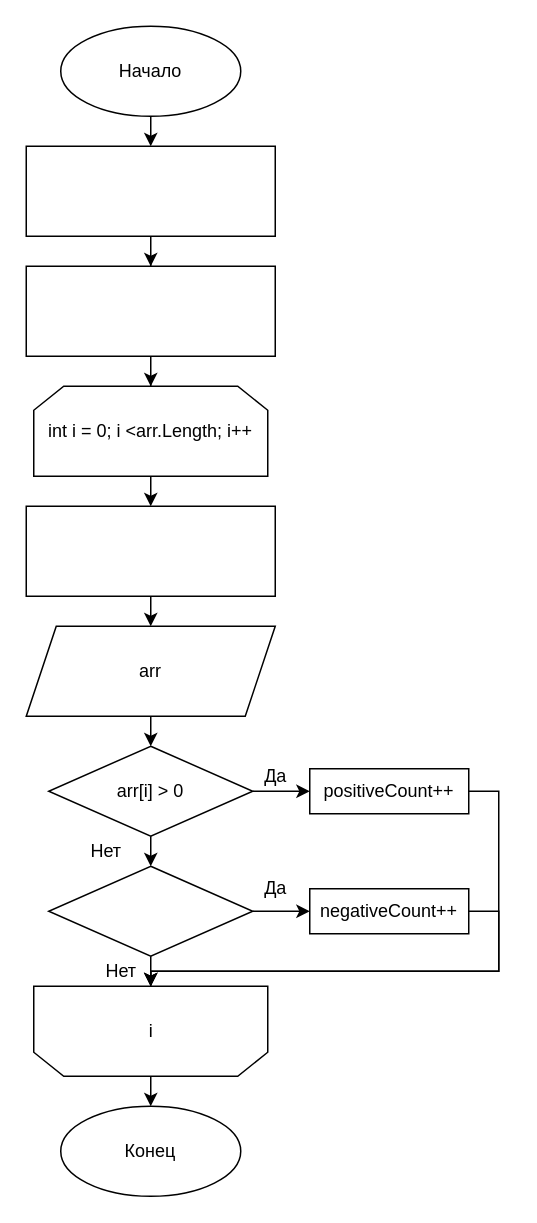
Some shapes in this 537 by 1223 pixel diagram are drawn without their labels. Here are the shapes that lost their labels. From the top down, the box of each, then its label:
(25, 145, 275, 236): int negativeCount = 0; int positiveCount = 0;
(25, 265, 275, 356): int[] arr = new int[20]; Random random = new Random();
(25, 505, 275, 596): arr[i] = random.Next(-100, 100);
(47, 865, 253, 956): arr[i] < 0
